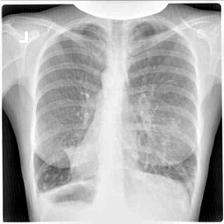tuberculosis: (25, 13, 202, 224)
